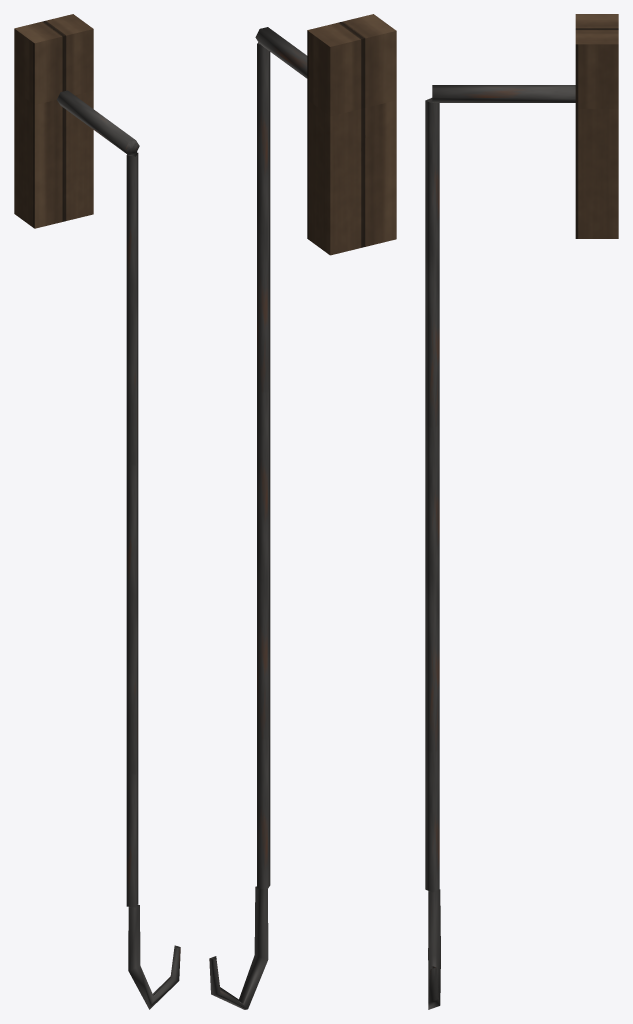
Rendered from Chain_Hook_1_LOD2.gltf.
The picture shows the model from 3 angles, left to right: view 1: azimuth 30°, elevation 25°; view 2: azimuth 210°, elevation 25°; view 3: azimuth 270°, elevation 25°; orthographic projection. The views are drawn at different scales.
Visible parts, largest first — view 1: Chain_Hook_1_LOD2; view 2: Chain_Hook_1_LOD2; view 3: Chain_Hook_1_LOD2.
Part boxes in pixels (left/top/right/bottom): Chain_Hook_1_LOD2: left=14, top=14, right=180, bottom=1009; Chain_Hook_1_LOD2: left=209, top=14, right=396, bottom=1009; Chain_Hook_1_LOD2: left=425, top=14, right=618, bottom=1009.
Size of the model in its own units: 0.2603 by 3 by 0.54.
Materials: 2 (2 with a texture image).
